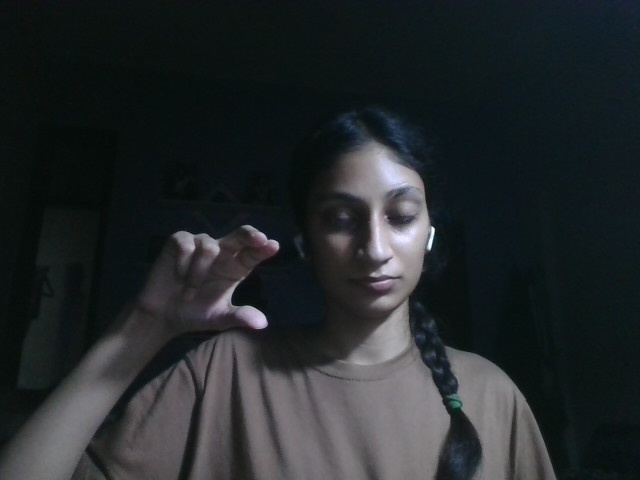no: (151, 220, 279, 334)
